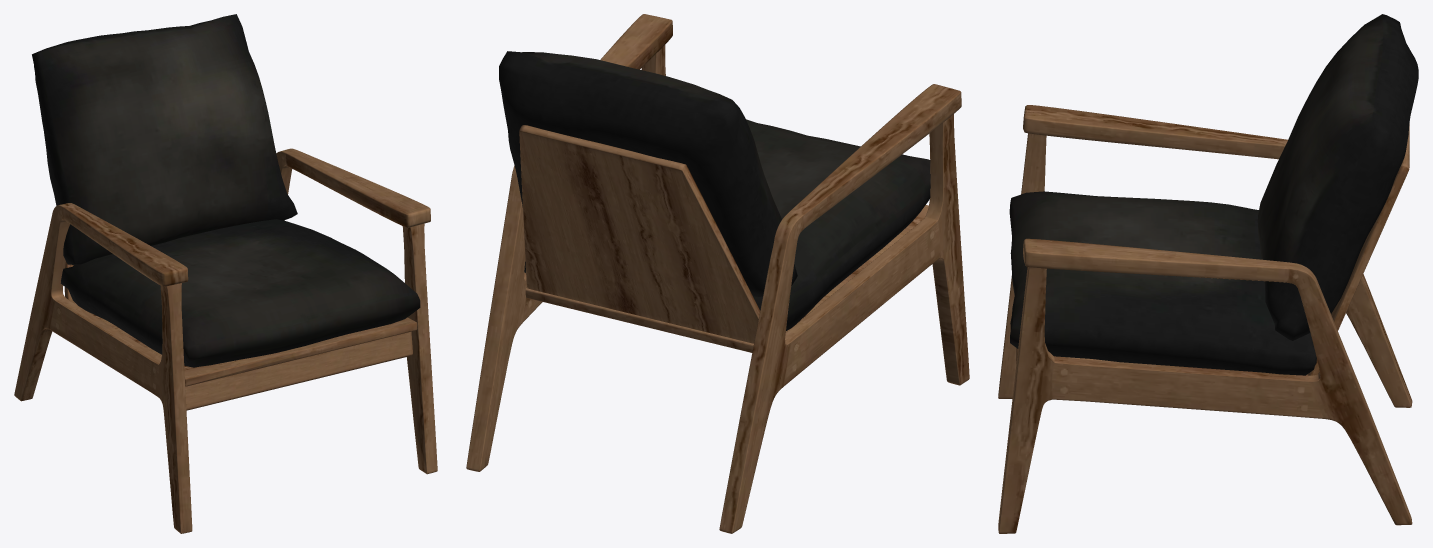
Rendered from modern_arm_chair_01.glb.
The picture shows the model from 3 angles, left to right: view 1: azimuth 30°, elevation 25°; view 2: azimuth 150°, elevation 25°; view 3: azimuth 270°, elevation 25°; orthographic projection. The views are drawn at different scales.
Parts seen in each view (by area): view 1: modern_arm_chair_01; view 2: modern_arm_chair_01; view 3: modern_arm_chair_01.
Boxes of the visible parts, left/top/right/bottom form: modern_arm_chair_01: left=14, top=14, right=437, bottom=533; modern_arm_chair_01: left=466, top=14, right=969, bottom=533; modern_arm_chair_01: left=998, top=14, right=1418, bottom=533.
Bounding box in the file's own units: 0.8203 × 1.02 × 0.9865.
2 materials, 2 textured.
